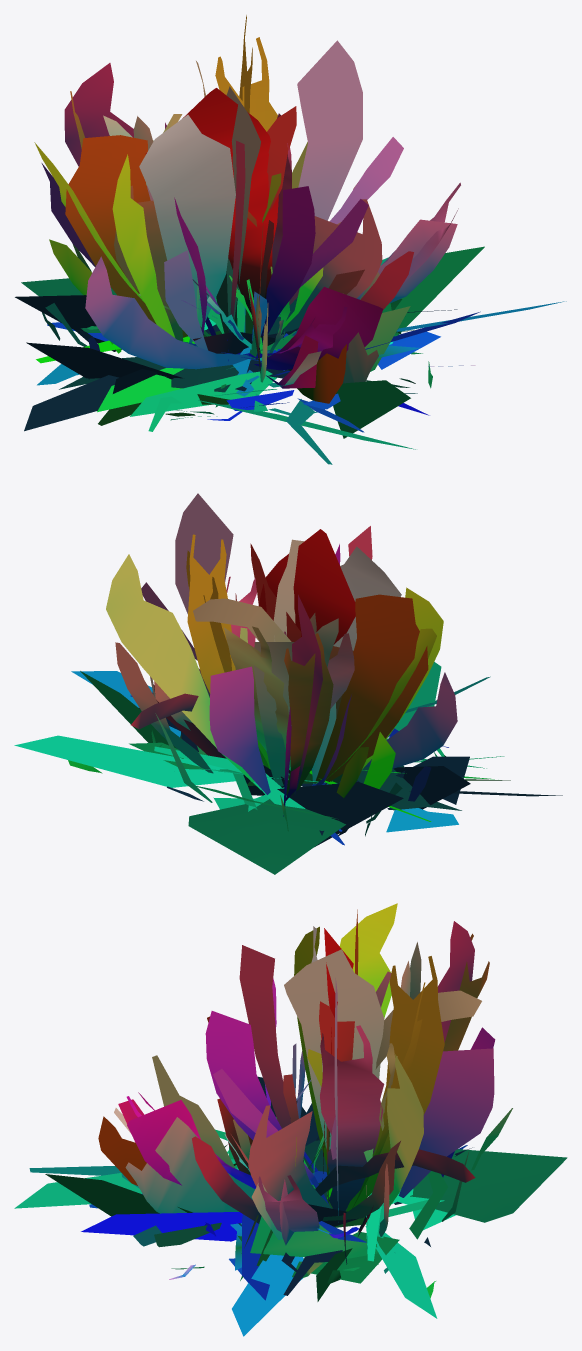
File: Dead_Shrubs_vdknafgha_Low_vdknafgha_VarG_LOD1.fbx
3 views of the same model, one above another, from view 1: azimuth 30°, elevation 25°; view 2: azimuth 150°, elevation 25°; view 3: azimuth 270°, elevation 25° (orthographic). The views are drawn at different scales.
Parts seen in each view (by area): view 1: _6ta3_VarG_LOD2; view 2: _6ta3_VarG_LOD2; view 3: _6ta3_VarG_LOD2.
Part boxes in pixels (bbox=[...]): _6ta3_VarG_LOD2: bbox=[15, 15, 566, 464]; _6ta3_VarG_LOD2: bbox=[14, 493, 562, 874]; _6ta3_VarG_LOD2: bbox=[14, 903, 567, 1336].
Bounding box in the file's own units: 123 × 66.29 × 109.
